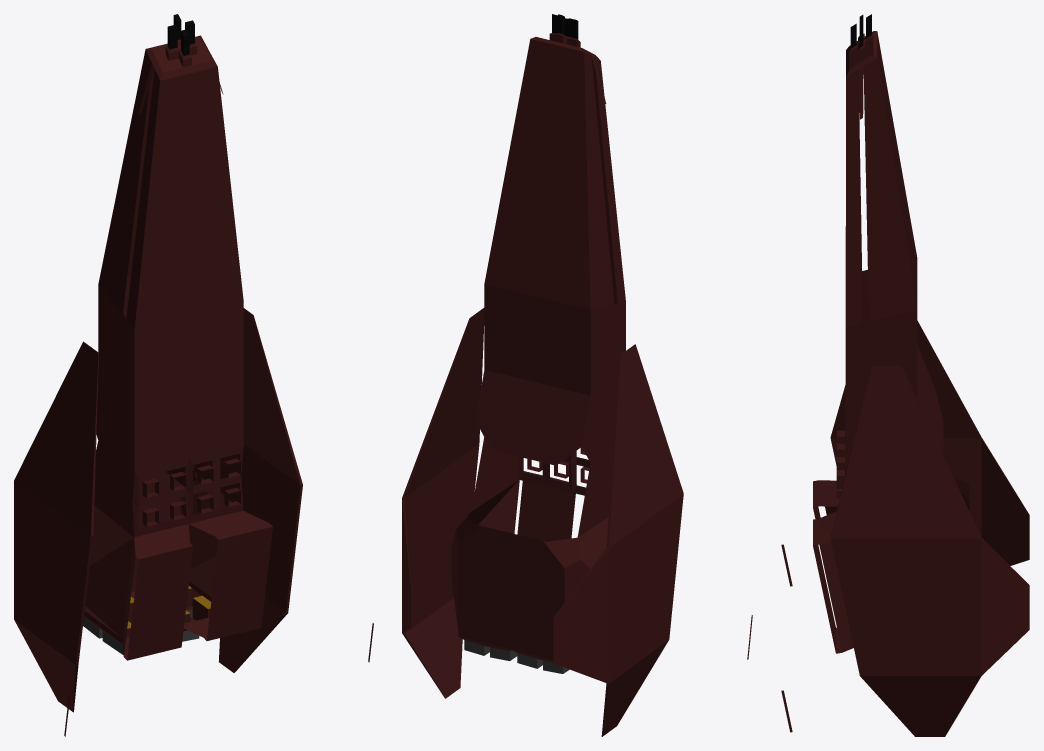
Rendered from ship4new.fbx.
3 renders of one model, left to right at view 1: azimuth 30°, elevation 25°; view 2: azimuth 150°, elevation 25°; view 3: azimuth 270°, elevation 25°, orthographic. The views are drawn at different scales.
Visible parts, largest first — view 1: Cube; view 2: Cube; view 3: Cube.
Part boxes in pixels (box(x1,y1,x2,y2)): Cube: box(14, 14, 373, 736); Cube: box(402, 14, 752, 736); Cube: box(781, 14, 1029, 736).
Size of the model in its own units: 279 by 608 by 200.
